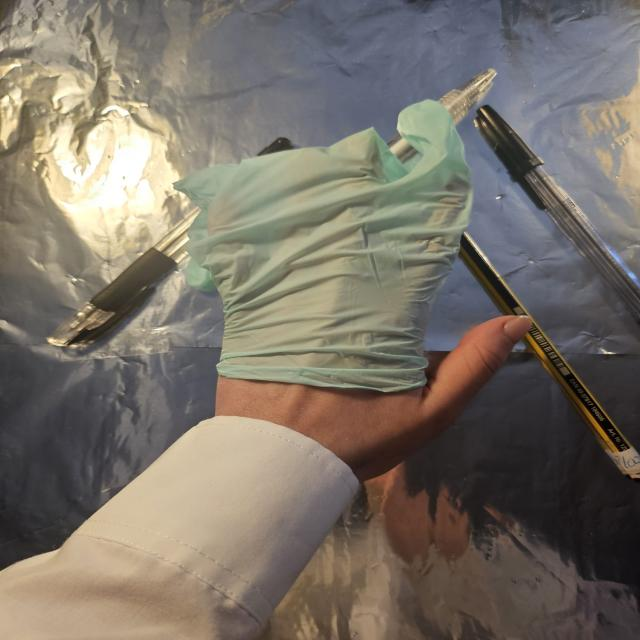glove_partial: (174, 101, 536, 484)
